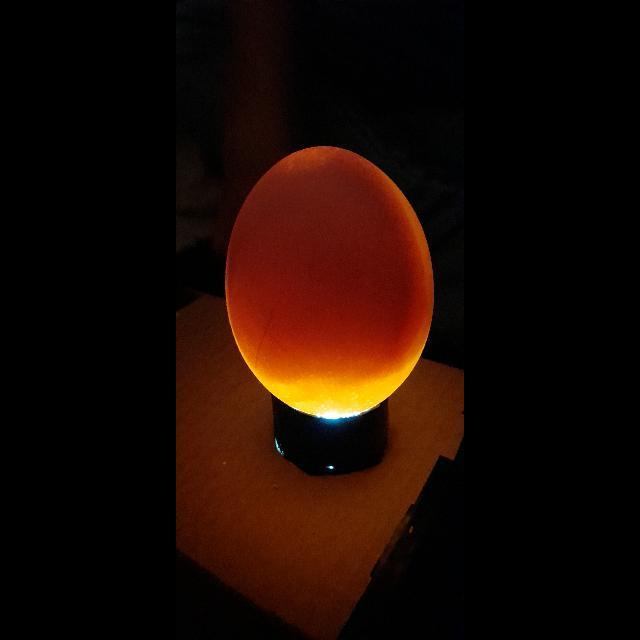Infertile: (222, 138, 440, 418)
